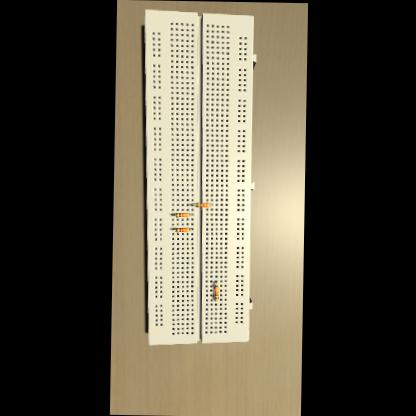breadboard: (138, 8, 257, 346)
resistor: (174, 212, 188, 216), (174, 226, 188, 230), (194, 202, 208, 206), (214, 284, 218, 298)
wire: (188, 226, 191, 228), (172, 228, 174, 230), (188, 212, 192, 213), (215, 280, 216, 284), (171, 213, 173, 214), (215, 298, 216, 300)
